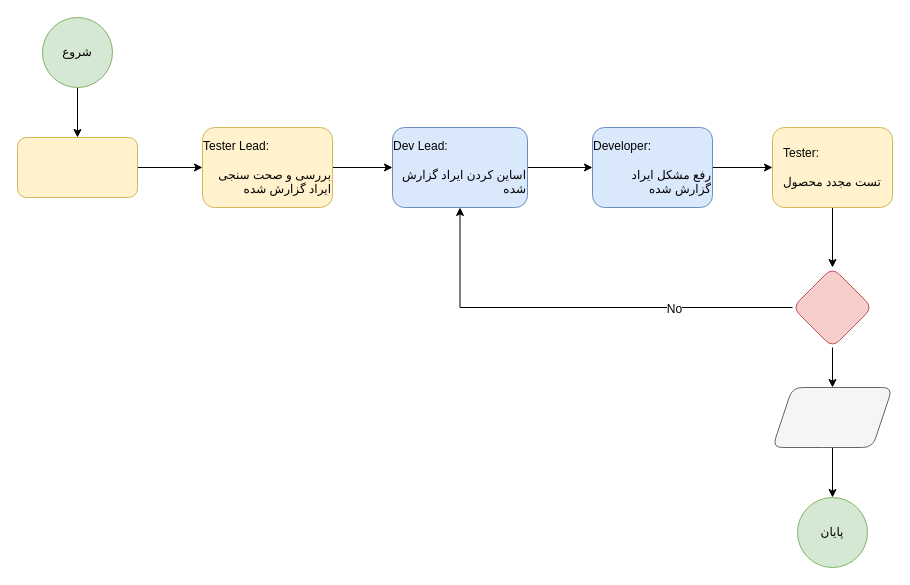
Image size: 910x585. Some labels were removed from this diagram. The centre of each missing label's shape, as x and y in pixels:
Tester: گزارش ایراد در سیستم: (x=77, y=167)
تایید شد؟: (x=832, y=307)
مشکل گزارش شده close شود: (x=832, y=417)
